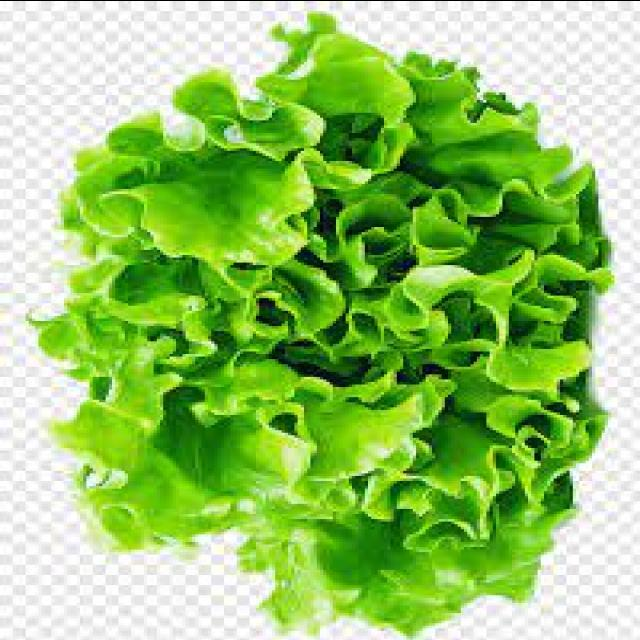Lettuce: (38, 9, 610, 634)
